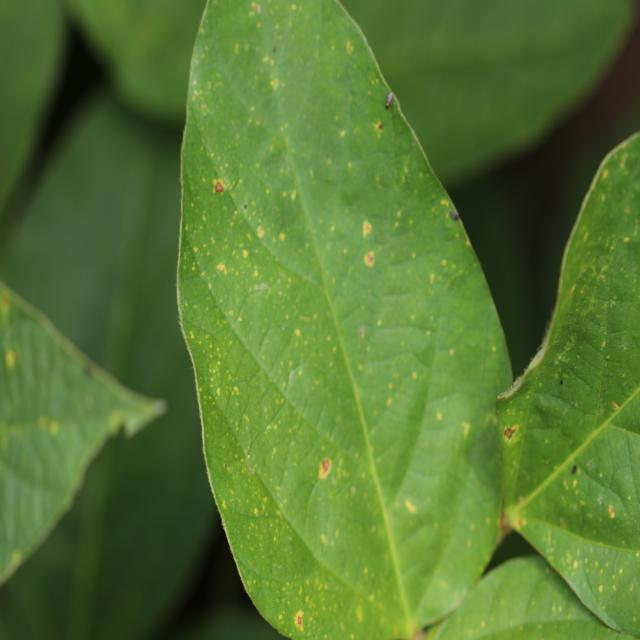Soybean: (175, 0, 640, 640)
downey_mildew: (349, 406, 423, 640), (211, 220, 300, 351), (299, 456, 386, 588), (0, 408, 88, 509), (226, 467, 300, 587), (201, 323, 267, 431), (345, 193, 390, 324), (239, 3, 303, 84), (276, 557, 347, 630), (562, 462, 631, 533), (183, 289, 254, 353), (191, 217, 245, 295), (497, 325, 551, 399), (385, 85, 433, 161), (576, 536, 632, 597), (194, 377, 216, 489), (119, 396, 167, 437), (337, 162, 377, 208), (528, 315, 555, 367), (372, 84, 397, 138), (107, 407, 133, 437), (498, 370, 526, 397), (36, 414, 61, 438), (599, 298, 628, 318), (318, 458, 332, 479), (5, 349, 17, 369), (503, 425, 518, 441), (213, 178, 227, 195), (0, 292, 10, 312), (362, 220, 372, 238), (83, 361, 94, 377), (405, 500, 417, 514), (12, 550, 22, 565), (449, 210, 460, 222), (586, 458, 596, 471), (461, 421, 470, 435), (567, 284, 576, 298), (373, 121, 384, 132), (251, 2, 260, 14), (256, 226, 264, 238), (346, 40, 353, 53), (358, 325, 365, 338), (601, 168, 609, 179), (516, 517, 524, 527), (612, 401, 620, 410), (199, 101, 206, 111), (429, 273, 435, 284), (598, 405, 604, 416), (440, 198, 448, 206), (221, 500, 227, 510), (572, 478, 578, 488), (519, 495, 525, 505), (571, 464, 577, 474), (387, 91, 393, 101), (504, 428, 510, 438), (262, 56, 269, 64), (623, 236, 631, 243), (279, 232, 285, 241), (253, 507, 259, 516), (350, 486, 356, 495), (291, 190, 296, 200), (573, 560, 578, 569), (480, 620, 485, 629), (598, 584, 603, 592), (246, 581, 251, 589), (561, 520, 566, 528), (385, 102, 390, 110), (602, 339, 606, 348), (193, 247, 198, 254), (192, 78, 197, 85), (216, 387, 220, 395), (224, 462, 228, 469), (191, 265, 195, 271), (234, 210, 238, 216), (243, 203, 247, 209), (624, 427, 627, 432)
